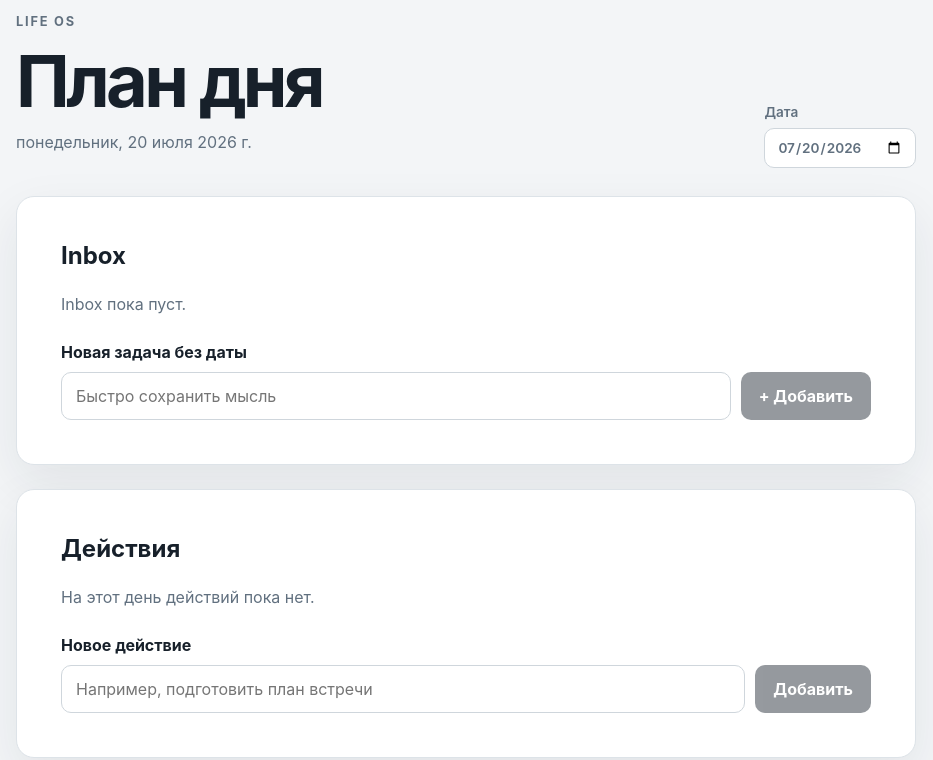
App › loads a day and adds an action
This screenshot has width=933, height=760.
Expected: the heading "План дня" is shown, x1=16 y1=37 x2=322 y2=124
Expected: the text "На этот день действий пока нет." is shown, x1=61 y1=587 x2=315 y2=607
Type "Подготовить план встречи" into the field labelled "Новое действие" at point(403, 689), box x1=61 y1=665 x2=745 y2=713
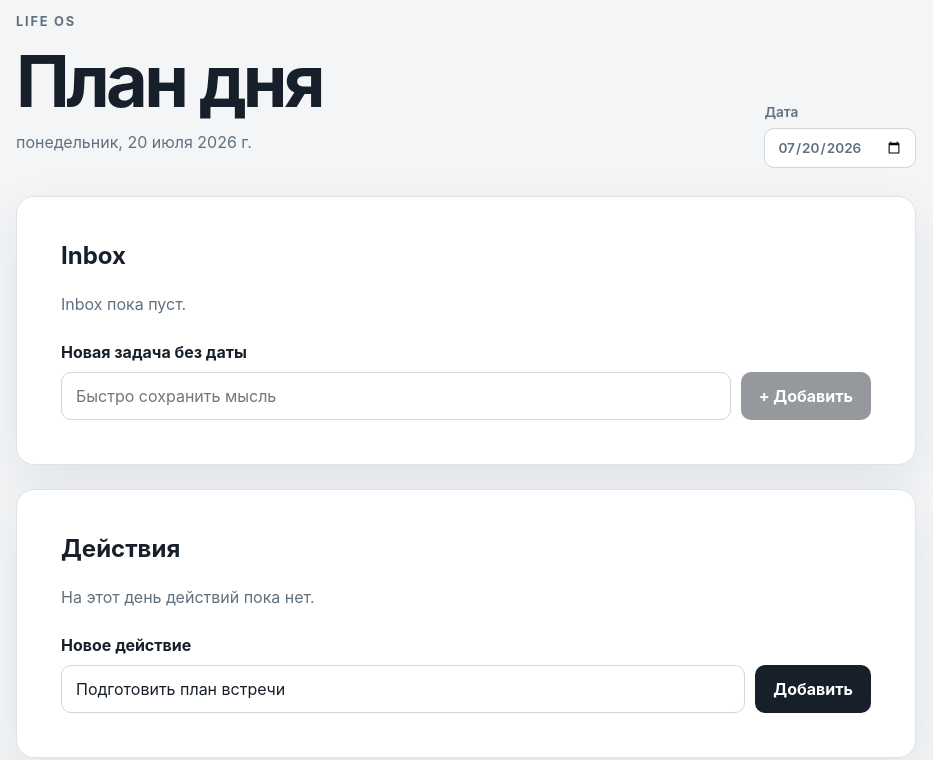
Click the button "Добавить" at point(813, 689), box x1=755 y1=665 x2=871 y2=713
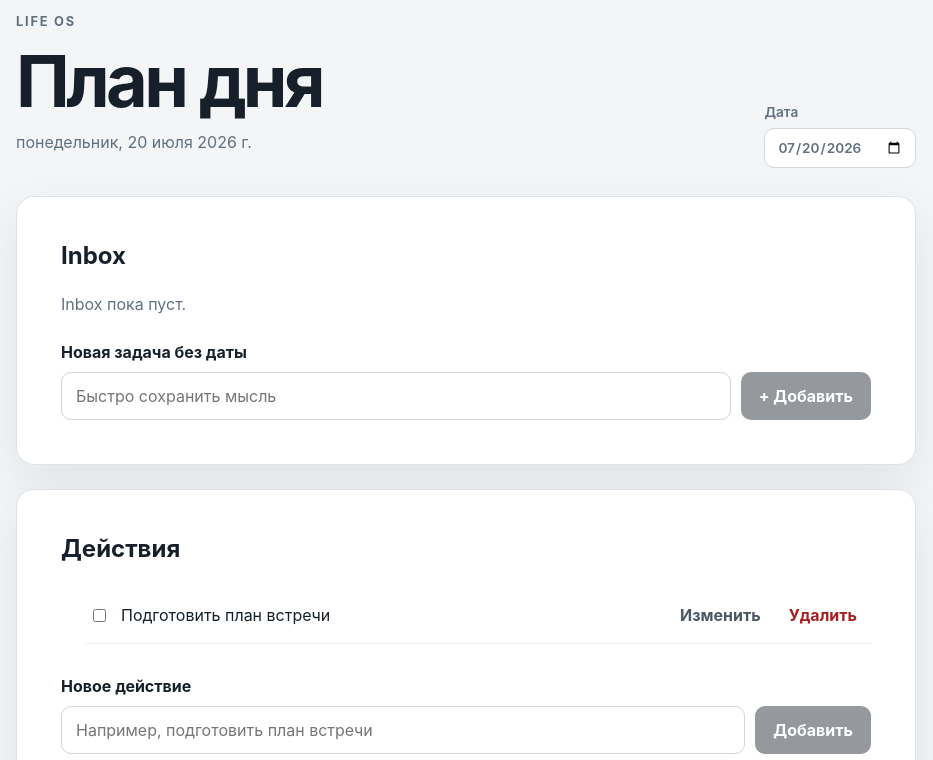
Now the text "Подготовить план встречи" is shown, box x1=121 y1=605 x2=330 y2=625
